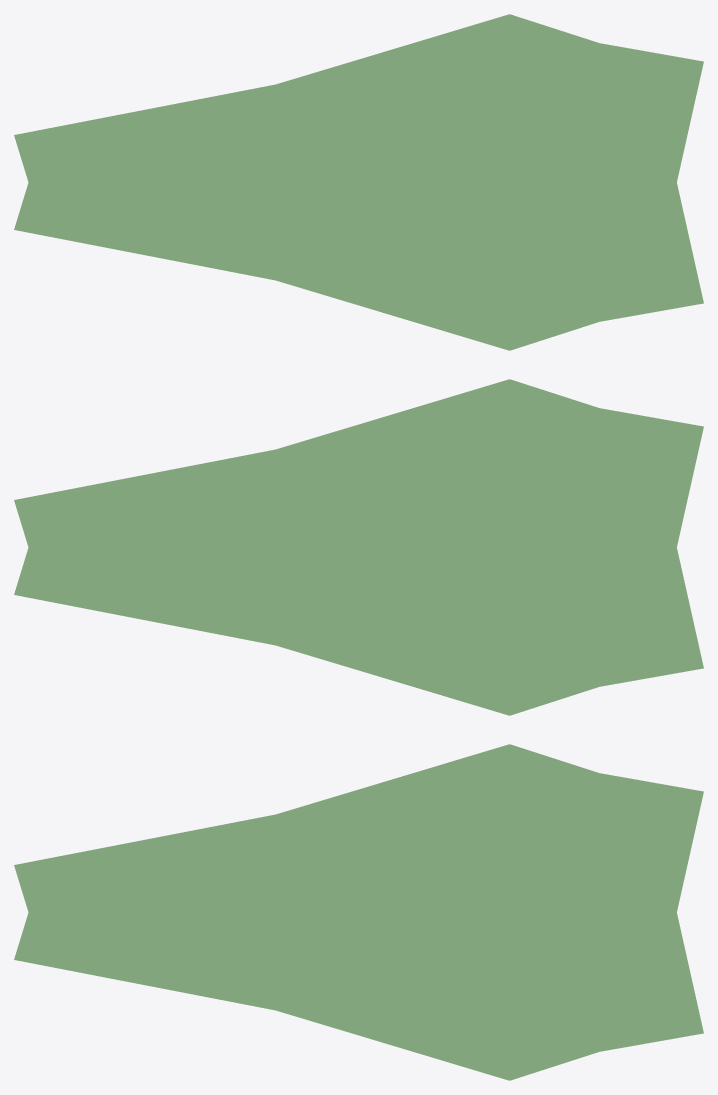
The model's file is 000.EdgeStitch.P0.L_B0.L_P0.O_B0.R_P0.R_B0.0.fbx.
The picture shows the model from 3 angles, top to bottom: view 1: azimuth 30°, elevation 25°; view 2: azimuth 150°, elevation 25°; view 3: azimuth 270°, elevation 25°; orthographic projection.
Visible parts, largest first — view 1: 000.EdgeStitch.P0.L_B0.L_P0.O_B0.R_P0.R_B0.0; view 2: 000.EdgeStitch.P0.L_B0.L_P0.O_B0.R_P0.R_B0.0; view 3: 000.EdgeStitch.P0.L_B0.L_P0.O_B0.R_P0.R_B0.0.
Boxes of the visible parts, left/top/right/bottom form: 000.EdgeStitch.P0.L_B0.L_P0.O_B0.R_P0.R_B0.0: left=14, top=14, right=703, bottom=350; 000.EdgeStitch.P0.L_B0.L_P0.O_B0.R_P0.R_B0.0: left=14, top=379, right=703, bottom=715; 000.EdgeStitch.P0.L_B0.L_P0.O_B0.R_P0.R_B0.0: left=14, top=744, right=703, bottom=1080.
Size of the model in its own units: 0.7168 by 0.6208 by 0.
